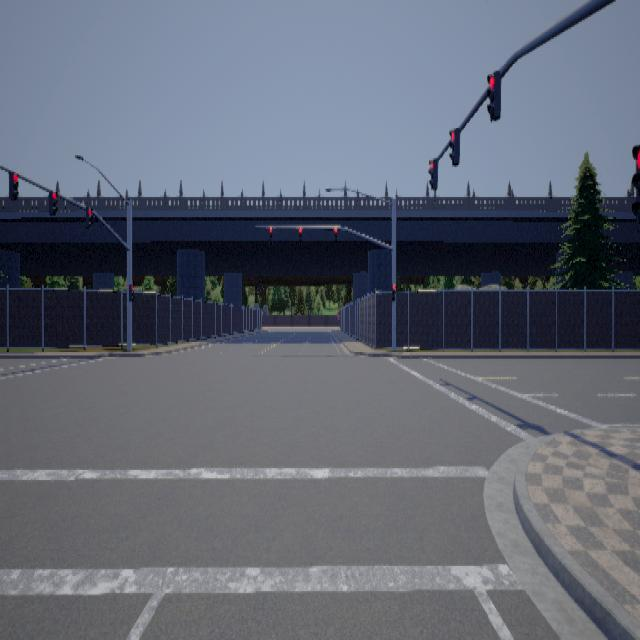red_light: (486, 69, 500, 121), (631, 143, 639, 231), (448, 126, 459, 165), (8, 170, 18, 199), (428, 156, 437, 188), (48, 189, 57, 214), (85, 205, 92, 228), (128, 283, 134, 300), (391, 283, 395, 300), (268, 225, 272, 242), (333, 225, 336, 242), (298, 225, 301, 242)
